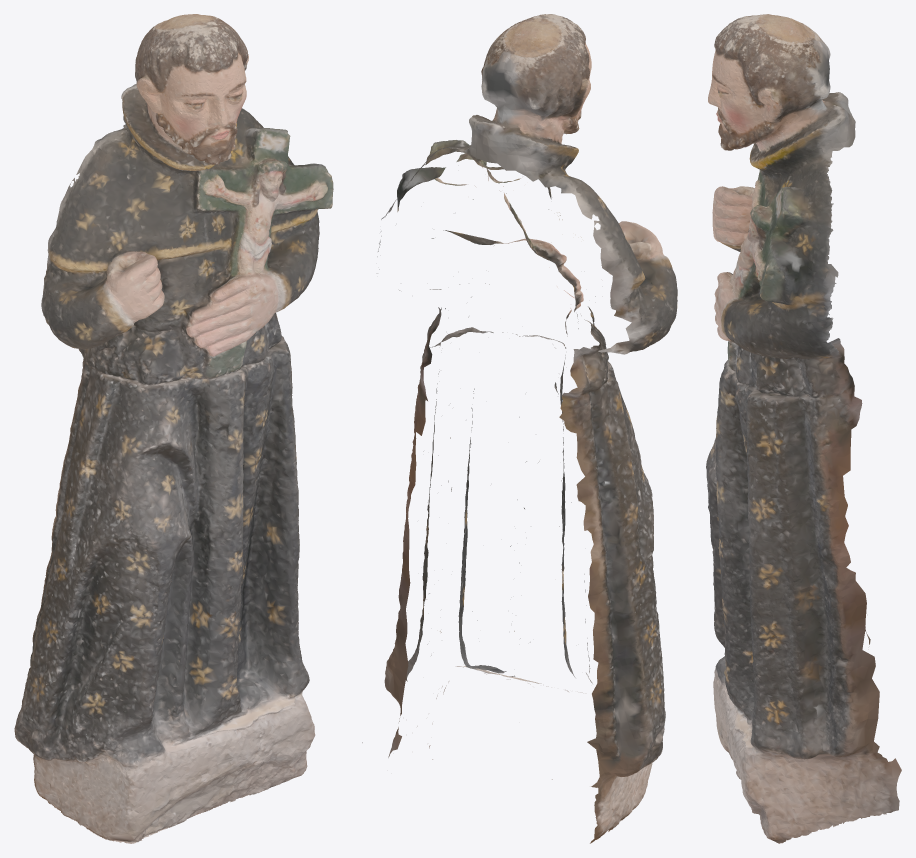
Rendered from borja.glb.
The picture shows the model from 3 angles, left to right: view 1: azimuth 30°, elevation 25°; view 2: azimuth 150°, elevation 25°; view 3: azimuth 270°, elevation 25°; orthographic projection. The views are drawn at different scales.
Visible parts, largest first — view 1: borja; view 2: borja; view 3: borja.
Part boxes in pixels (left/top/right/bottom): borja: left=14, top=14, right=333, bottom=843; borja: left=362, top=14, right=677, bottom=843; borja: left=706, top=14, right=901, bottom=843.
Bounding box in the file's own units: 5.2 × 13.75 × 3.14.
